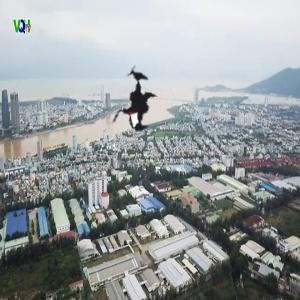drone: (84, 52, 183, 151)
